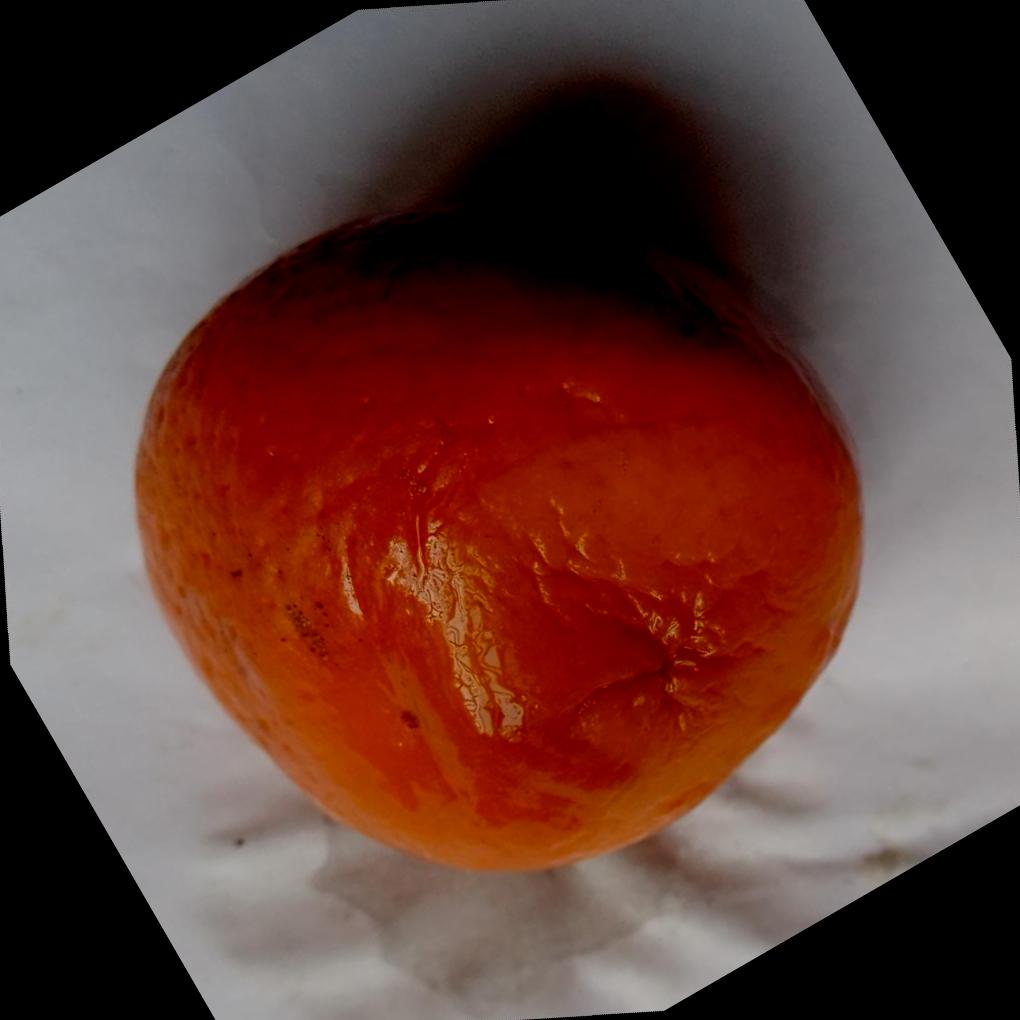FreshOrange: (131, 199, 868, 878)
